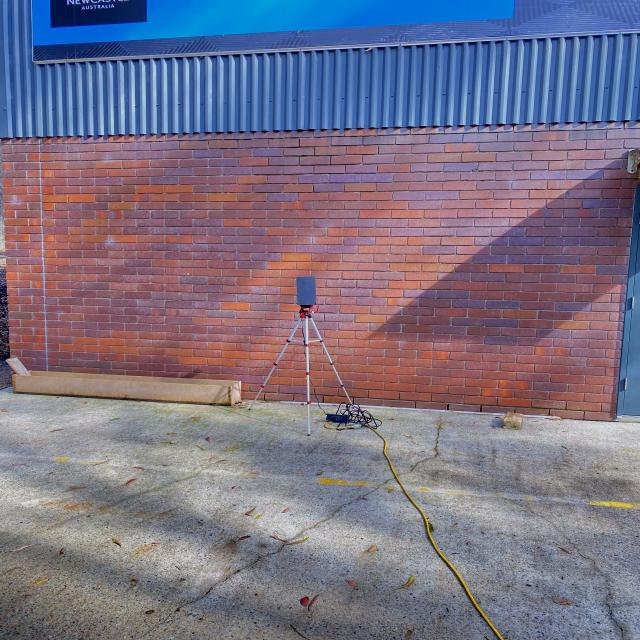matrix: (293, 275, 320, 307)
